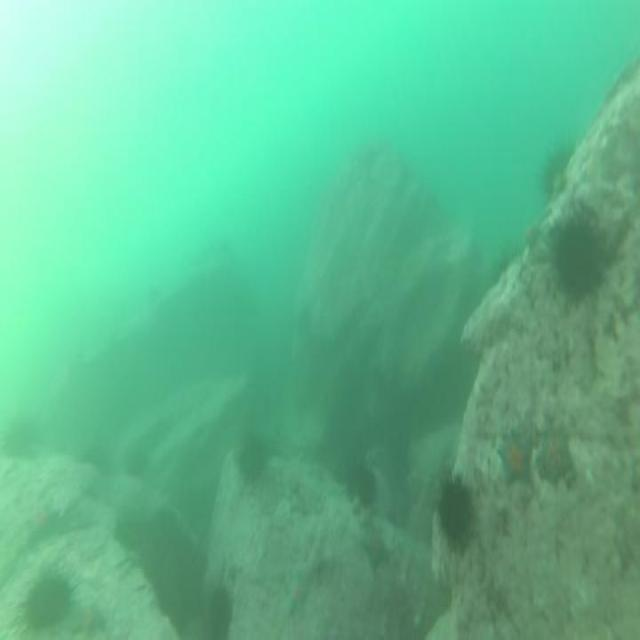echinus: (551, 207, 607, 310), (431, 466, 481, 561), (18, 567, 76, 637), (540, 139, 574, 202), (234, 433, 273, 487), (341, 458, 382, 509), (0, 414, 39, 466), (204, 583, 234, 640), (75, 441, 113, 471), (124, 442, 150, 480)
starfish: (534, 419, 576, 490), (493, 425, 535, 493), (23, 498, 62, 547), (359, 526, 395, 577)
